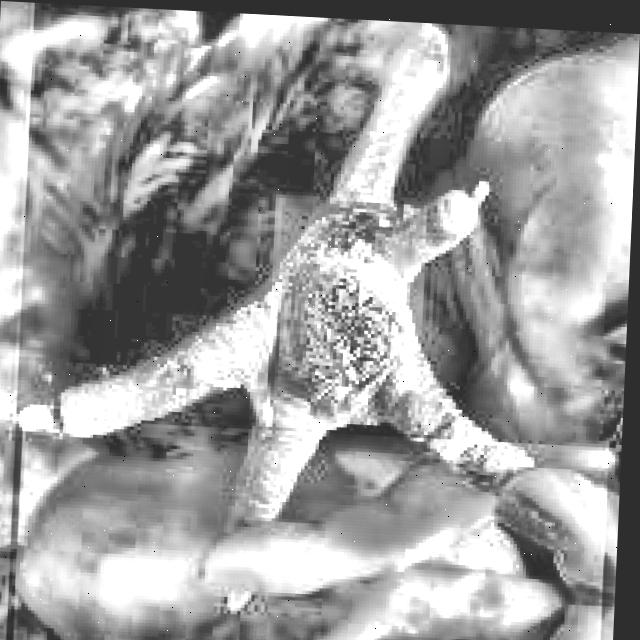Bumble foot: (14, 415, 602, 640)
